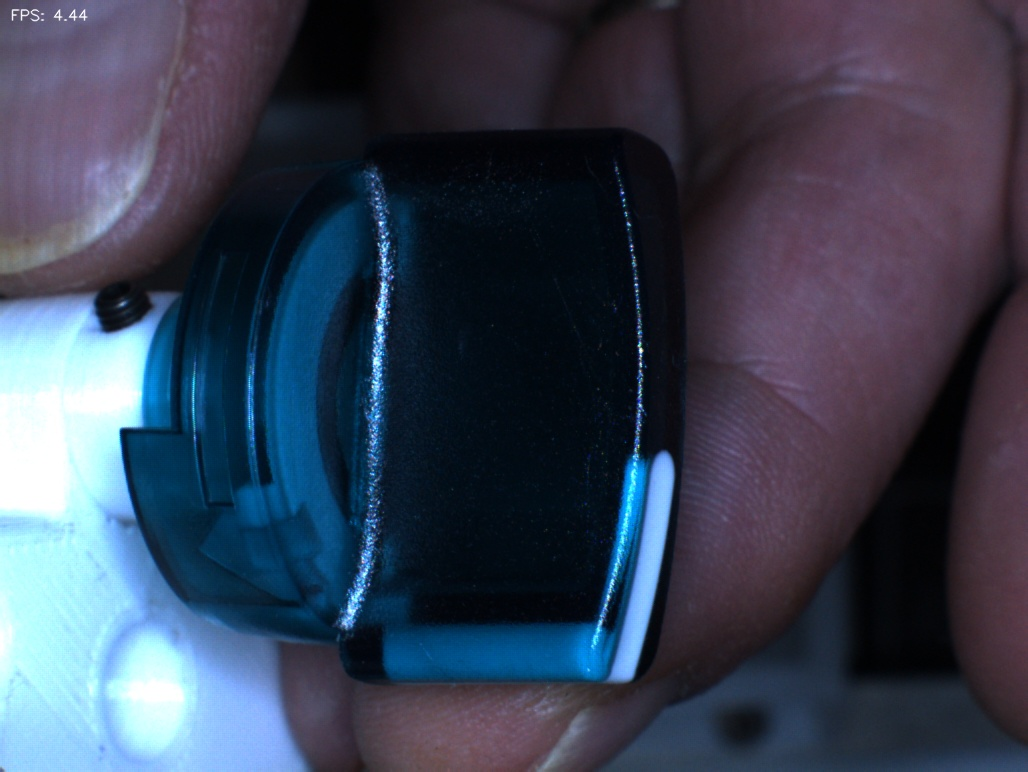Givrage: (552, 287, 636, 424)
